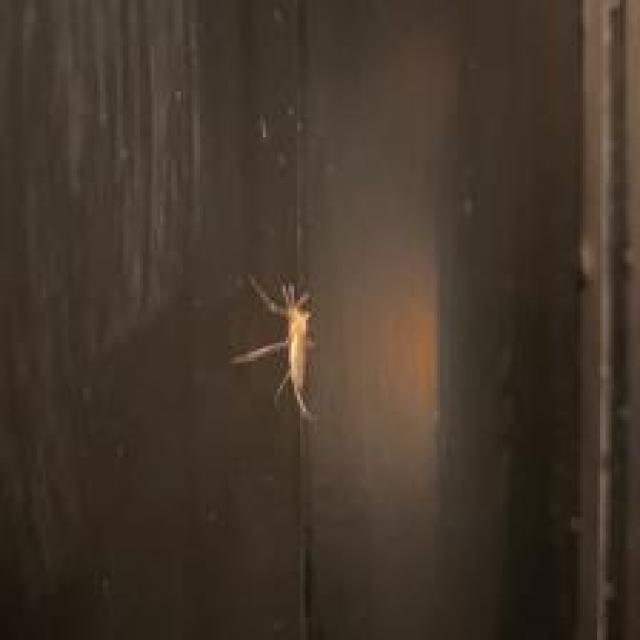Culex: (227, 273, 322, 424)
